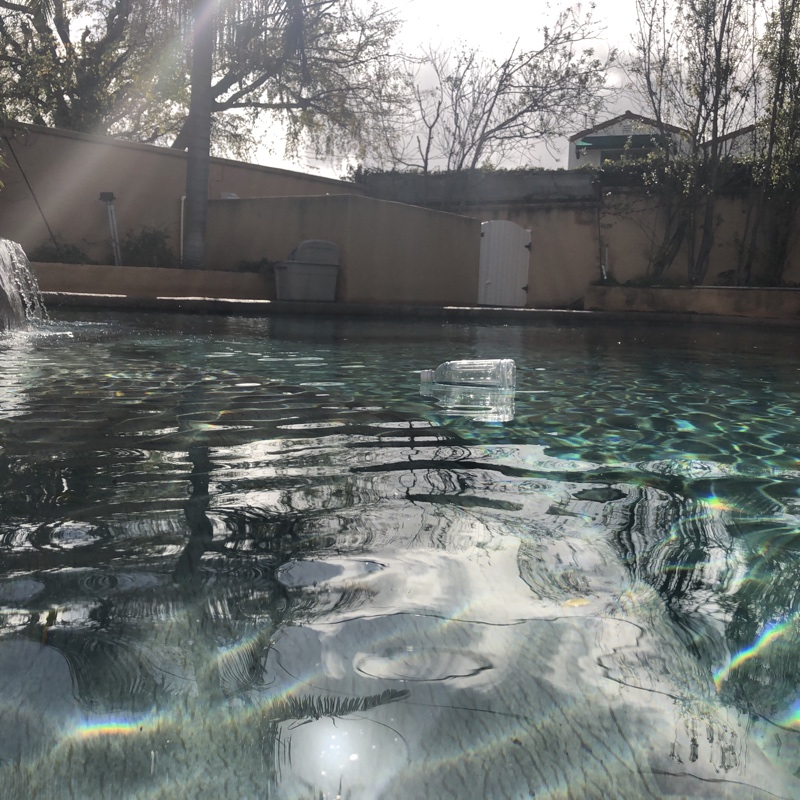Plastic Bottle: (416, 354, 517, 392)
